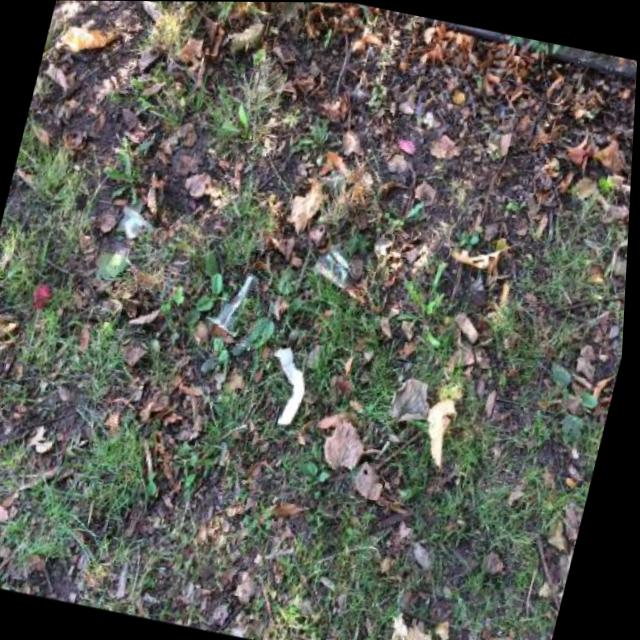plastic: (202, 267, 260, 340), (309, 242, 366, 296)
